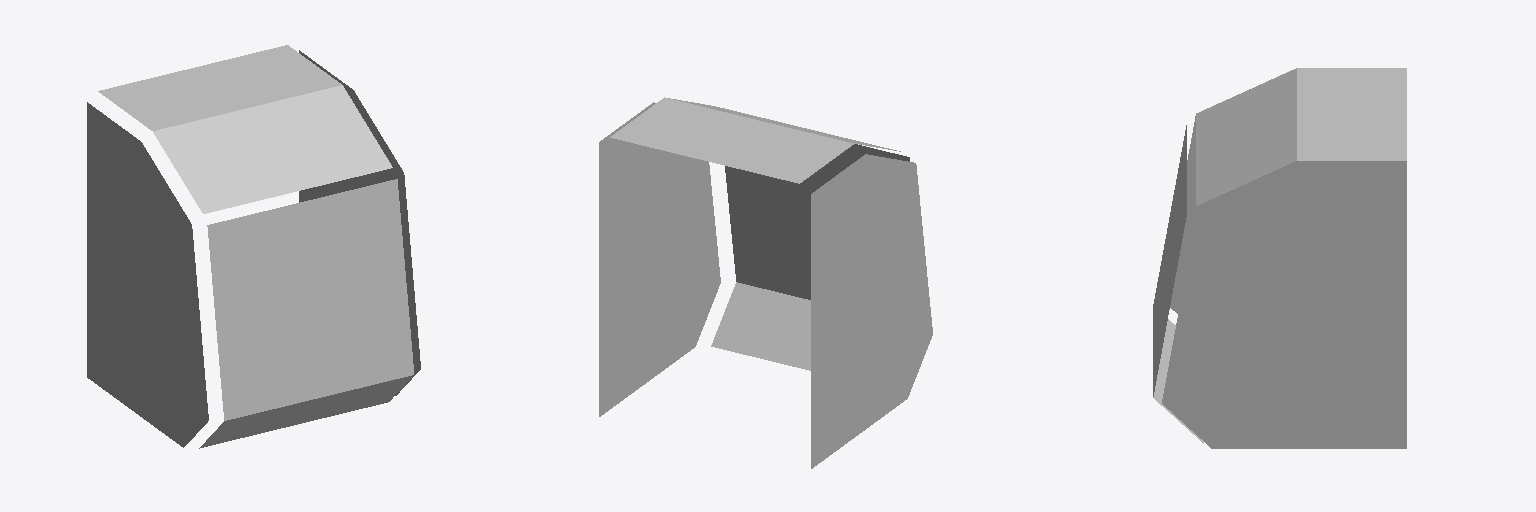
The model's file is glass_correction.obj.
3 renders of one model, left to right at view 1: azimuth 30°, elevation 25°; view 2: azimuth 150°, elevation 25°; view 3: azimuth 270°, elevation 25°, orthographic.
Parts seen in each view (by area): view 1: canopy_glass; view 2: canopy_glass; view 3: canopy_glass.
Boxes of the visible parts, x1=… form: canopy_glass: x1=87, y1=45, x2=420, y2=448; canopy_glass: x1=599, y1=97, x2=932, y2=468; canopy_glass: x1=1153, y1=68, x2=1406, y2=448.
Bounding box in the file's own units: 1.45 × 1.85 × 1.5.